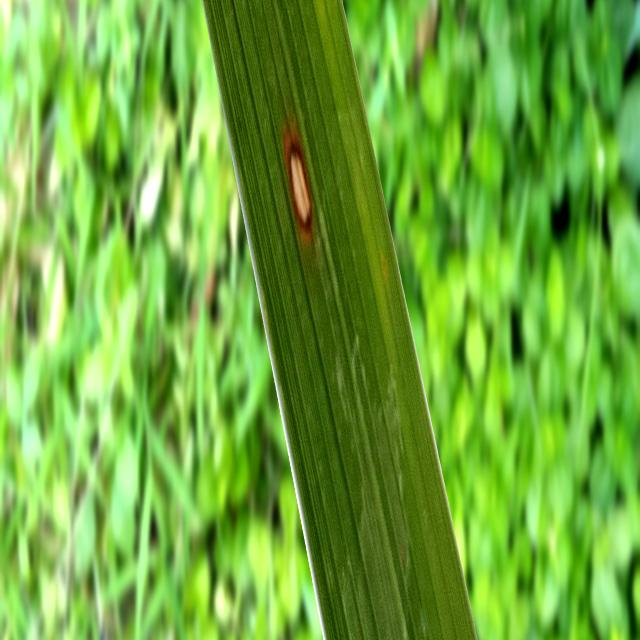LEAF BLAST: (283, 128, 313, 237)
